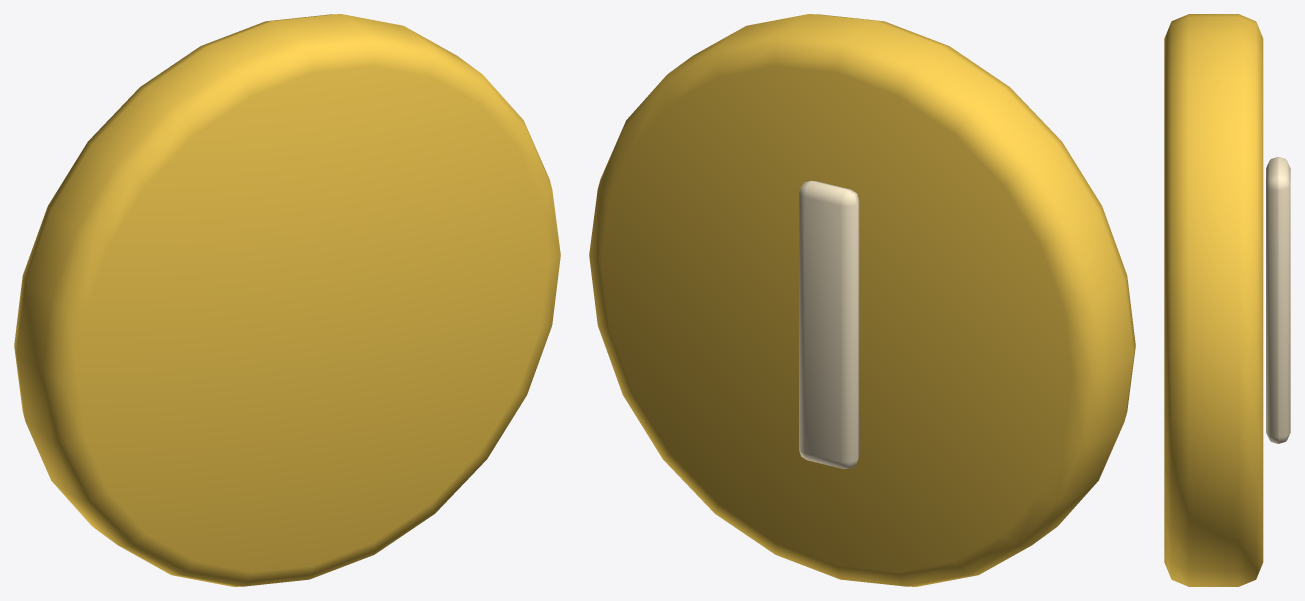
File: Coin.fbx
The picture shows the model from 3 angles, left to right: view 1: azimuth 30°, elevation 25°; view 2: azimuth 150°, elevation 25°; view 3: azimuth 270°, elevation 25°; orthographic projection. The views are drawn at different scales.
Parts seen in each view (by area): view 1: CoinDisk; view 2: CoinDisk, CoinMark; view 3: CoinDisk, CoinMark.
Boxes of the visible parts, x1,y1,x2,y2 form: CoinDisk: [14, 14, 560, 586]; CoinDisk: [589, 14, 1135, 586]; CoinMark: [799, 181, 859, 468]; CoinDisk: [1164, 14, 1263, 586]; CoinMark: [1266, 157, 1290, 443].
Size of the model in its own units: 0.58 by 0.58 by 0.1275.
